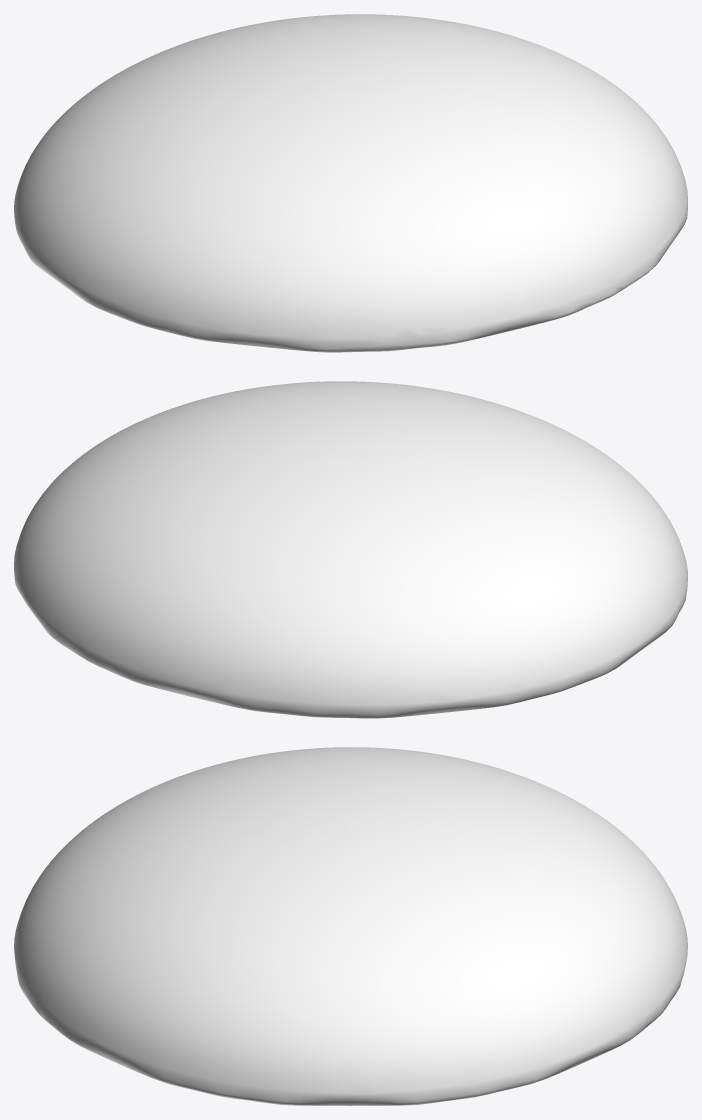
Rendered from CHRISTIANTATIS_TREE-optimized.glb.
The picture shows the model from 3 angles, top to bottom: view 1: azimuth 30°, elevation 25°; view 2: azimuth 150°, elevation 25°; view 3: azimuth 270°, elevation 25°; orthographic projection. The views are drawn at different scales.
Visible parts, largest first — view 1: SKY_SPHERE; view 2: SKY_SPHERE; view 3: SKY_SPHERE.
Boxes of the visible parts, <box> form: SKY_SPHERE: <box>14,14,687,352</box>; SKY_SPHERE: <box>14,381,687,718</box>; SKY_SPHERE: <box>14,747,687,1105</box>.
Size of the model in its own units: 215 by 53.52 by 204.
16 materials, 16 textured.
